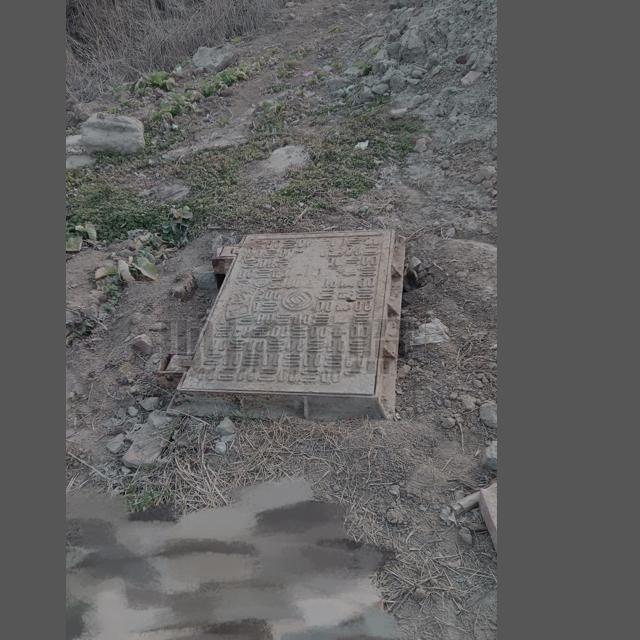circle: (156, 223, 414, 424)
